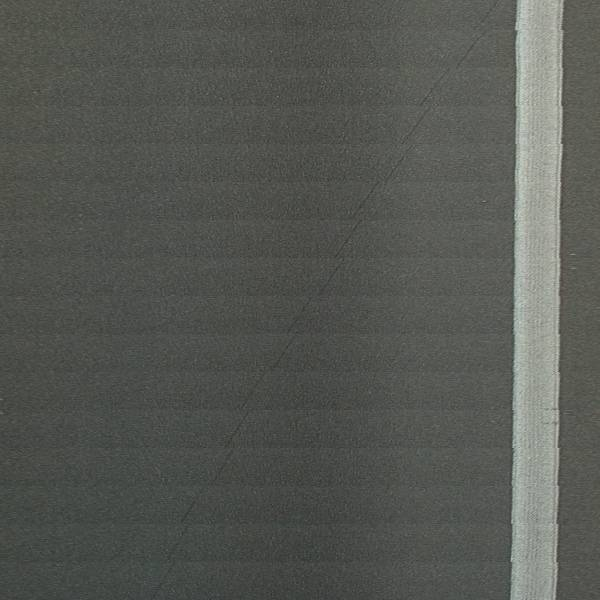road_damage: (183, 47, 475, 548)
